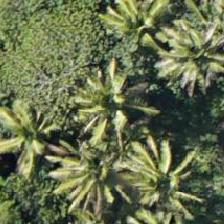coconut_tree: (21, 131, 111, 221), (43, 70, 133, 160), (0, 106, 69, 196), (112, 174, 202, 223)
